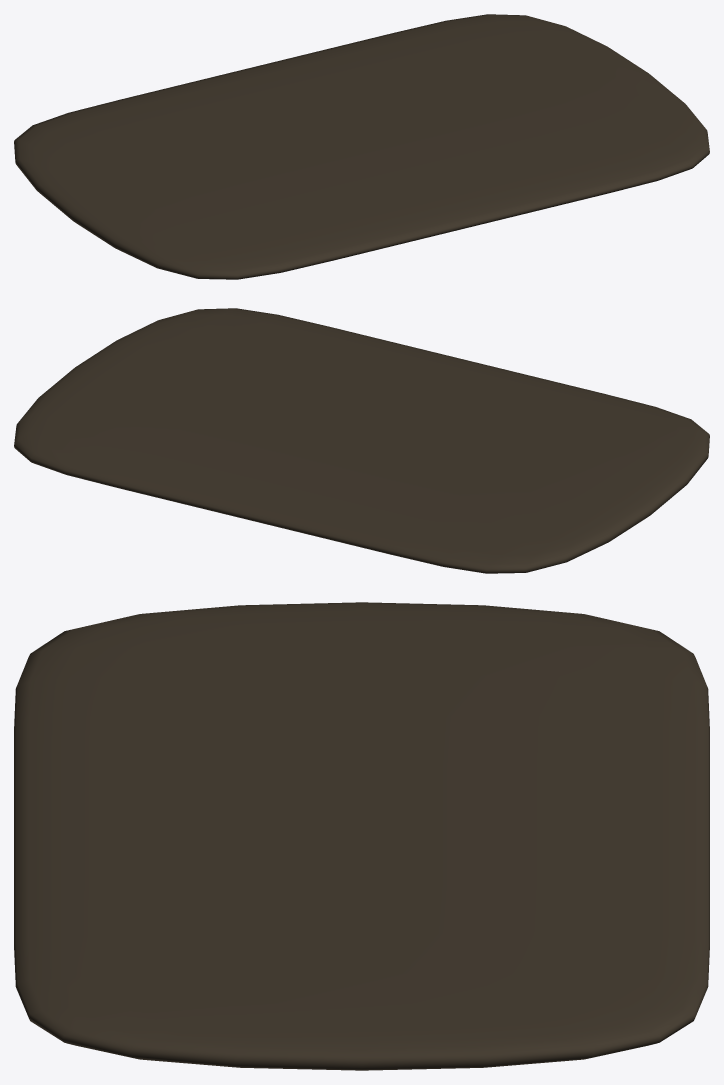
File: rug.fbx
3 views of the same model, one above another, from view 1: azimuth 30°, elevation 25°; view 2: azimuth 150°, elevation 25°; view 3: azimuth 270°, elevation 25° (orthographic). The views are drawn at different scales.
Visible parts, largest first — view 1: Area_Rug; view 2: Area_Rug; view 3: Area_Rug.
Part boxes in pixels (bbox=[...]): Area_Rug: bbox=[14, 14, 709, 279]; Area_Rug: bbox=[14, 308, 709, 573]; Area_Rug: bbox=[14, 602, 709, 1070].
Size of the model in its own units: 452 by 13.09 by 290.
